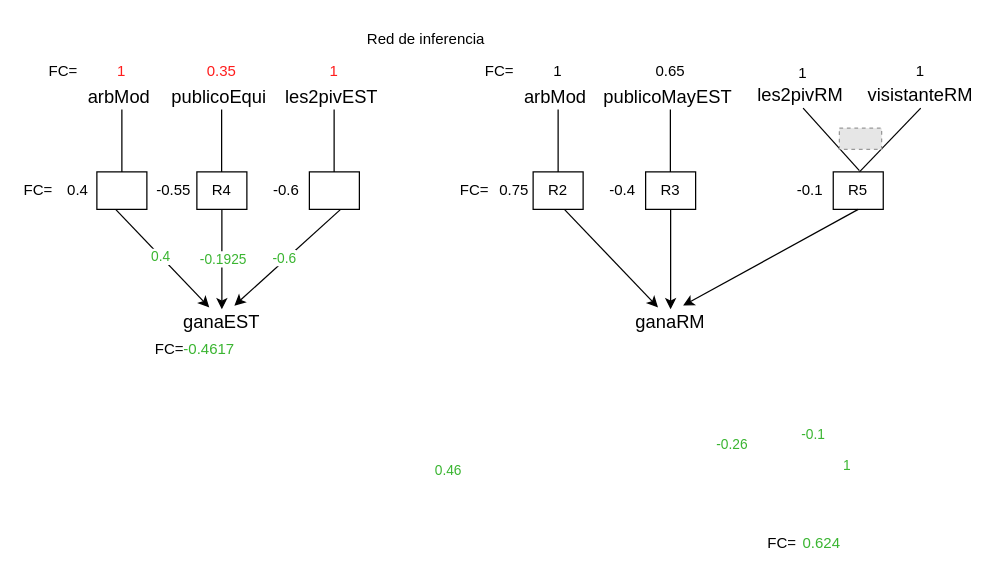
This 995x576 diagram has some shape labels left out. Grey dashed boxes stand in for pictures. Each missing label, with the box of its shape:
R1: (96, 171, 147, 209)
R6: (308, 171, 359, 209)
